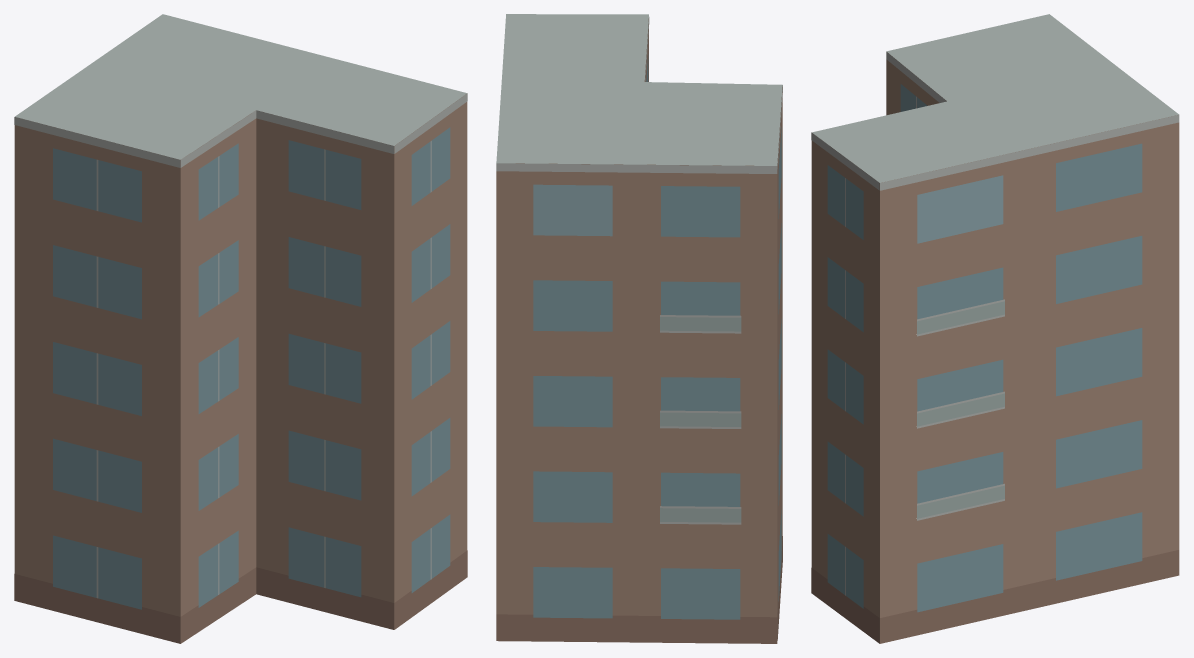
File: survey-upis-32721933.glb
The picture shows the model from 3 angles, left to right: view 1: azimuth 30°, elevation 25°; view 2: azimuth 150°, elevation 25°; view 3: azimuth 270°, elevation 25°; orthographic projection. The views are drawn at different scales.
Parts seen in each view (by area): view 1: survey-upis-32721933.tmp; view 2: survey-upis-32721933.tmp; view 3: survey-upis-32721933.tmp.
Boxes of the visible parts, left/top/right/bottom form: survey-upis-32721933.tmp: left=14, top=14, right=467, bottom=643; survey-upis-32721933.tmp: left=496, top=14, right=782, bottom=643; survey-upis-32721933.tmp: left=811, top=14, right=1179, bottom=643.
Bounding box in the file's own units: 11.34 × 14.4 × 10.42.
